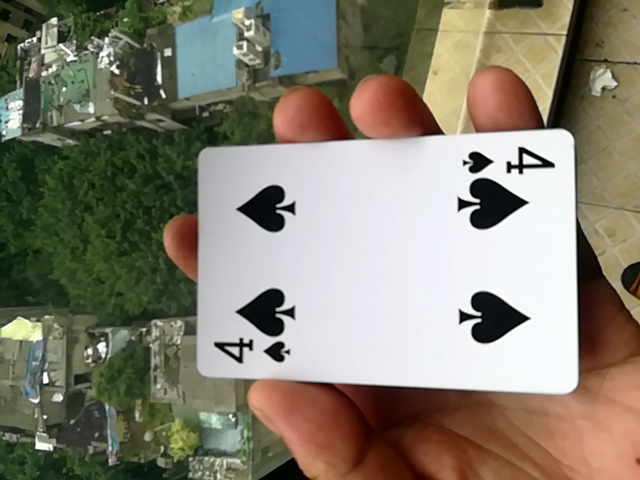ht 4: (182, 131, 573, 397)
